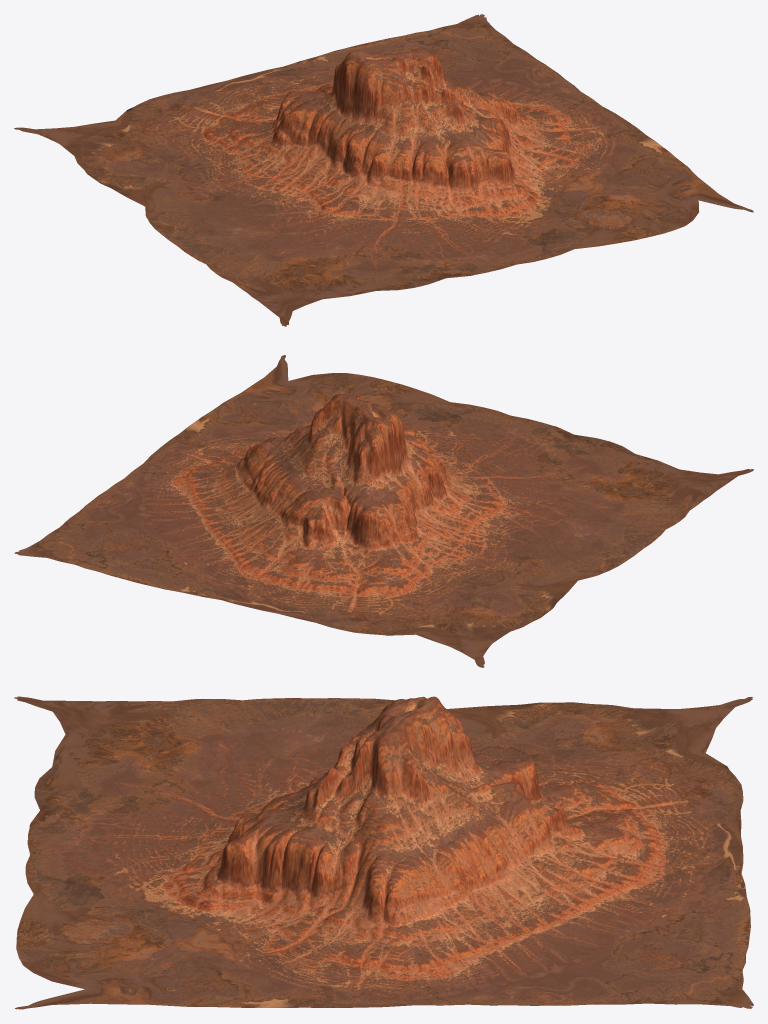
File: skalka_001.fbx
3 renders of one model, top to bottom at view 1: azimuth 30°, elevation 25°; view 2: azimuth 150°, elevation 25°; view 3: azimuth 270°, elevation 25°, orthographic. The views are drawn at different scales.
Parts seen in each view (by area): view 1: Plane; view 2: Plane; view 3: Plane.
Part boxes in pixels (x1,y1,x2,y2): Plane: (14, 14, 753, 326); Plane: (14, 355, 753, 667); Plane: (14, 696, 753, 1009).
Size of the model in its own units: 991 by 218 by 991.
